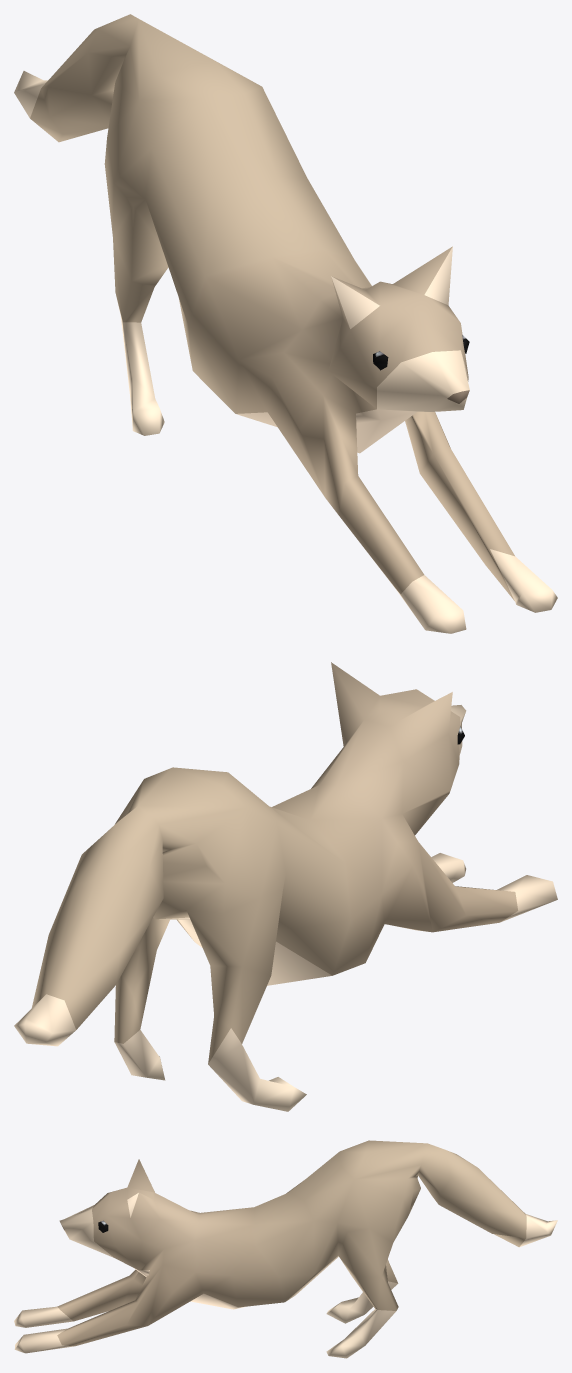
3 views of the same model, one above another, from view 1: azimuth 30°, elevation 25°; view 2: azimuth 150°, elevation 25°; view 3: azimuth 270°, elevation 25° (orthographic). The views are drawn at different scales.
Visible parts, largest first — view 1: Fox03; view 2: Fox03; view 3: Fox03.
Boxes of the visible parts, <box> form: Fox03: <box>14,14,557,633</box>; Fox03: <box>14,662,557,1111</box>; Fox03: <box>14,1140,557,1358</box>.
Size of what is drawn, in the model's own units: 0.3269 by 0.6497 by 1.65.
Materials: 1 (1 with a texture image).
